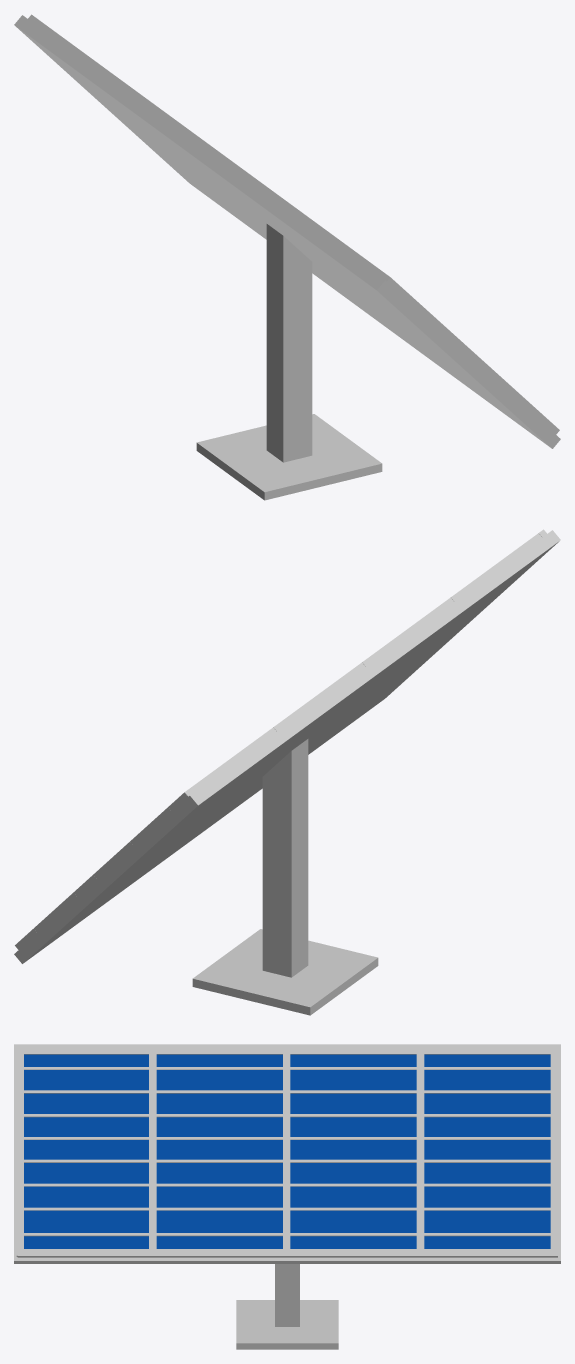
Rendered from Solarpanel.fbx.
The picture shows the model from 3 angles, top to bottom: view 1: azimuth 30°, elevation 25°; view 2: azimuth 150°, elevation 25°; view 3: azimuth 270°, elevation 25°; orthographic projection. The views are drawn at different scales.
Parts seen in each view (by area): view 1: SolarPanel; view 2: SolarPanel; view 3: SolarPanel.
Part boxes in pixels (<box>): SolarPanel: <box>14,14,560,500</box>; SolarPanel: <box>14,529,560,1015</box>; SolarPanel: <box>14,1044,560,1349</box>.
Size of the model in its own units: 2.67 by 4.6 by 9.03.
